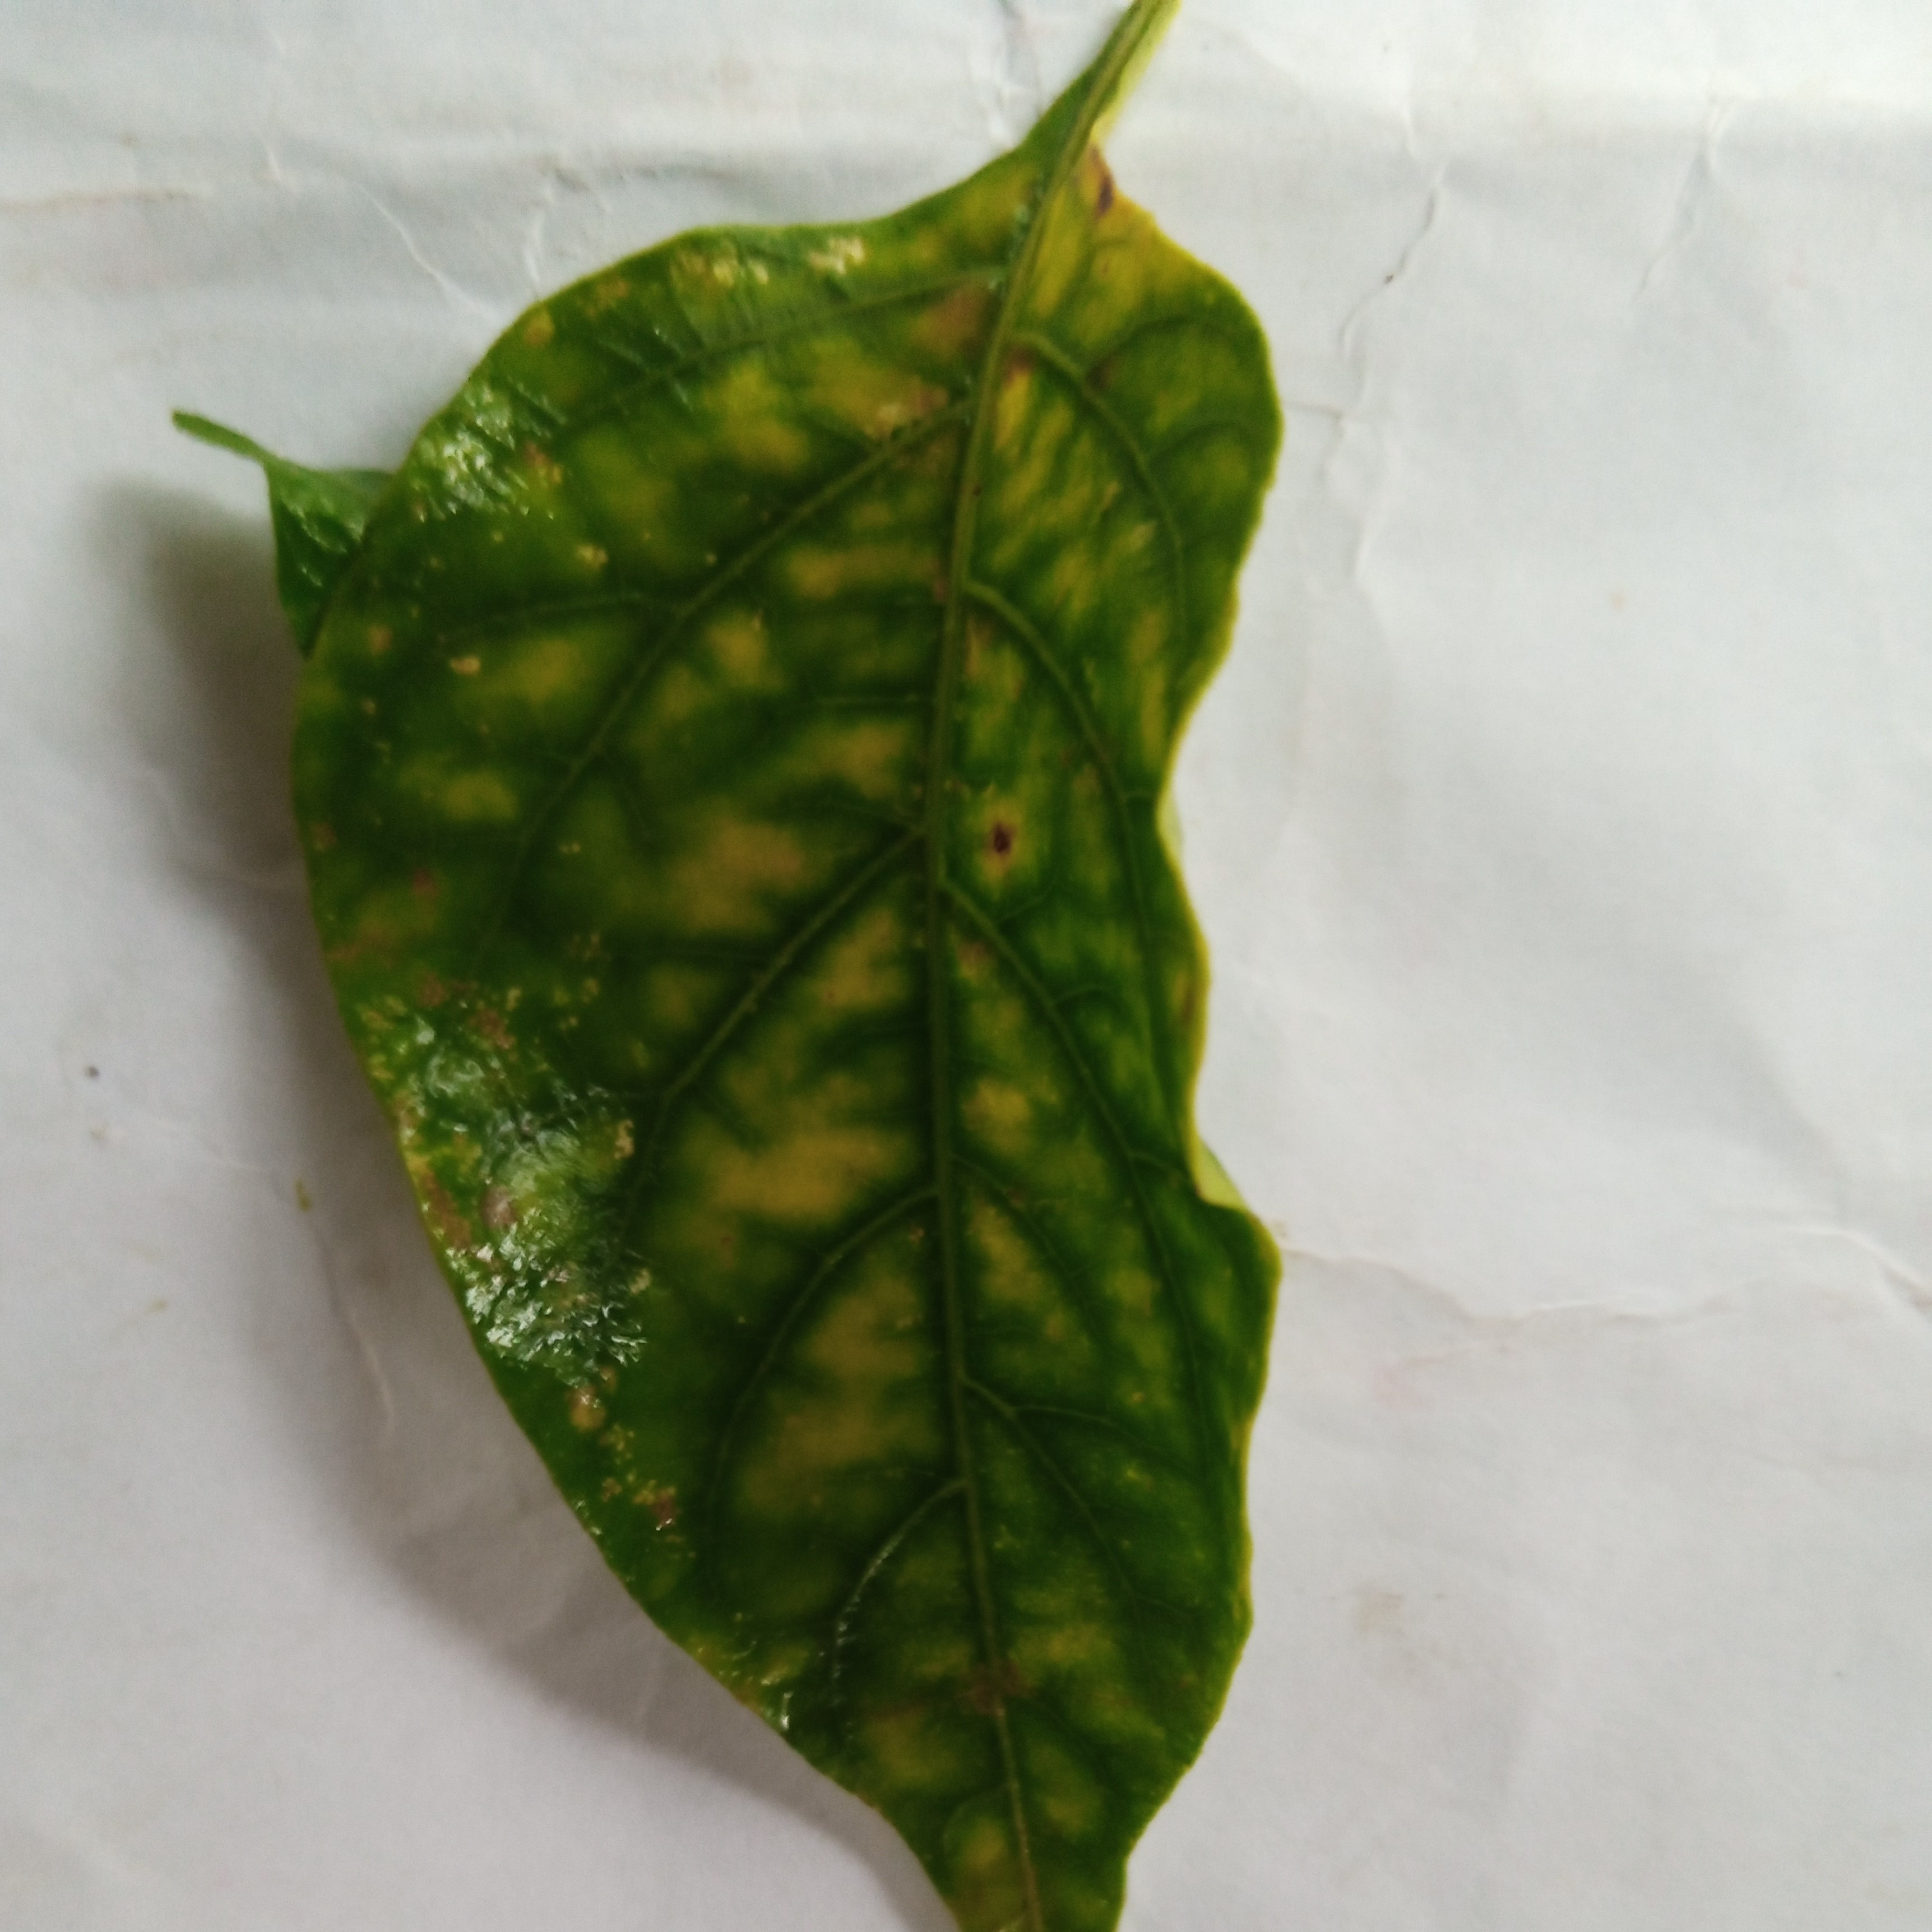Leaf: (133, 73, 1537, 1932)
